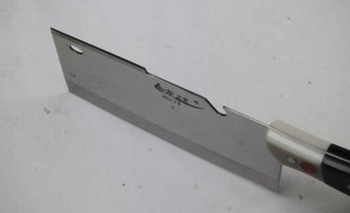knief: (44, 30, 336, 177)
